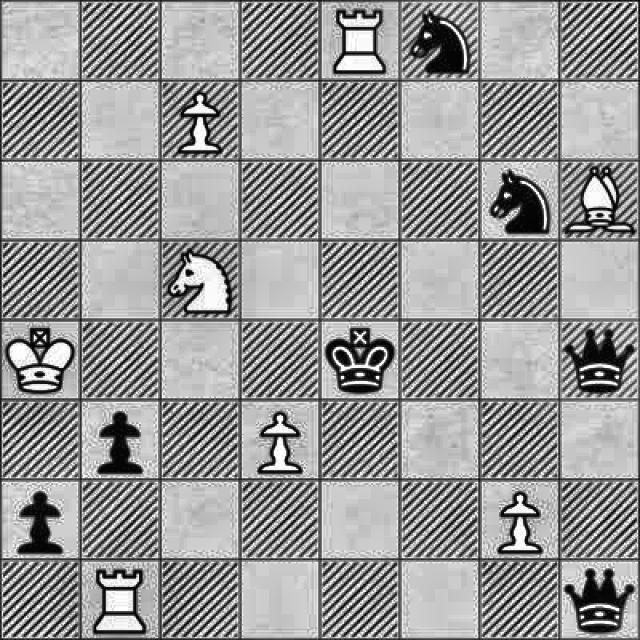Black Knight: (485, 164, 557, 241), (406, 2, 476, 81)
black king: (324, 324, 394, 394)
black pawn: (13, 483, 72, 559), (89, 408, 149, 477)
black queen: (560, 561, 638, 640), (561, 326, 640, 399)
white bishop: (571, 161, 636, 238)
white king: (1, 324, 78, 398)
white pawn: (493, 486, 552, 558), (173, 90, 232, 160), (256, 403, 304, 473)
white rook: (331, 2, 392, 76), (88, 566, 152, 636)
whiteknight: (164, 244, 237, 318)
